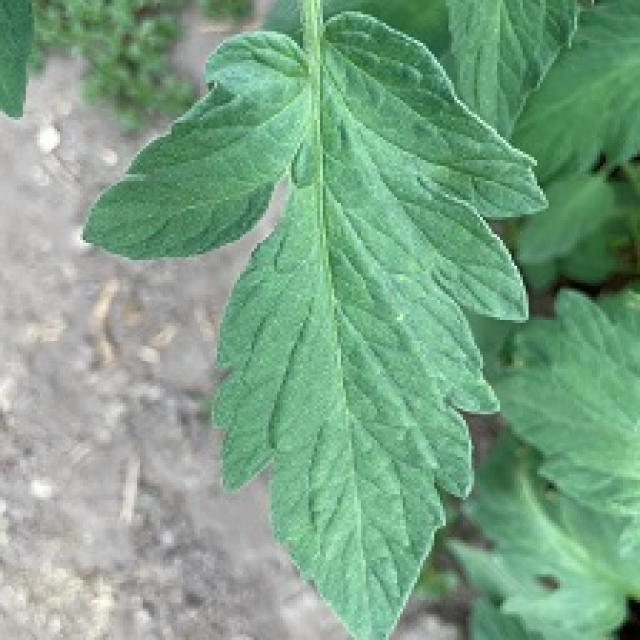Healthy: (8, 0, 640, 640)
